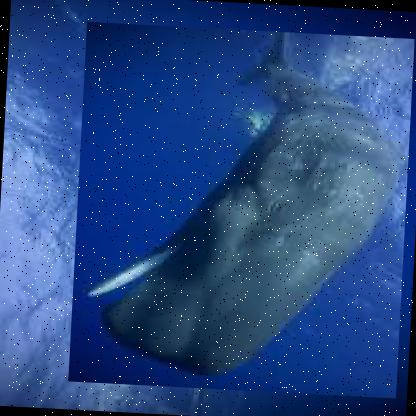sperm_whale: (68, 20, 415, 398)
